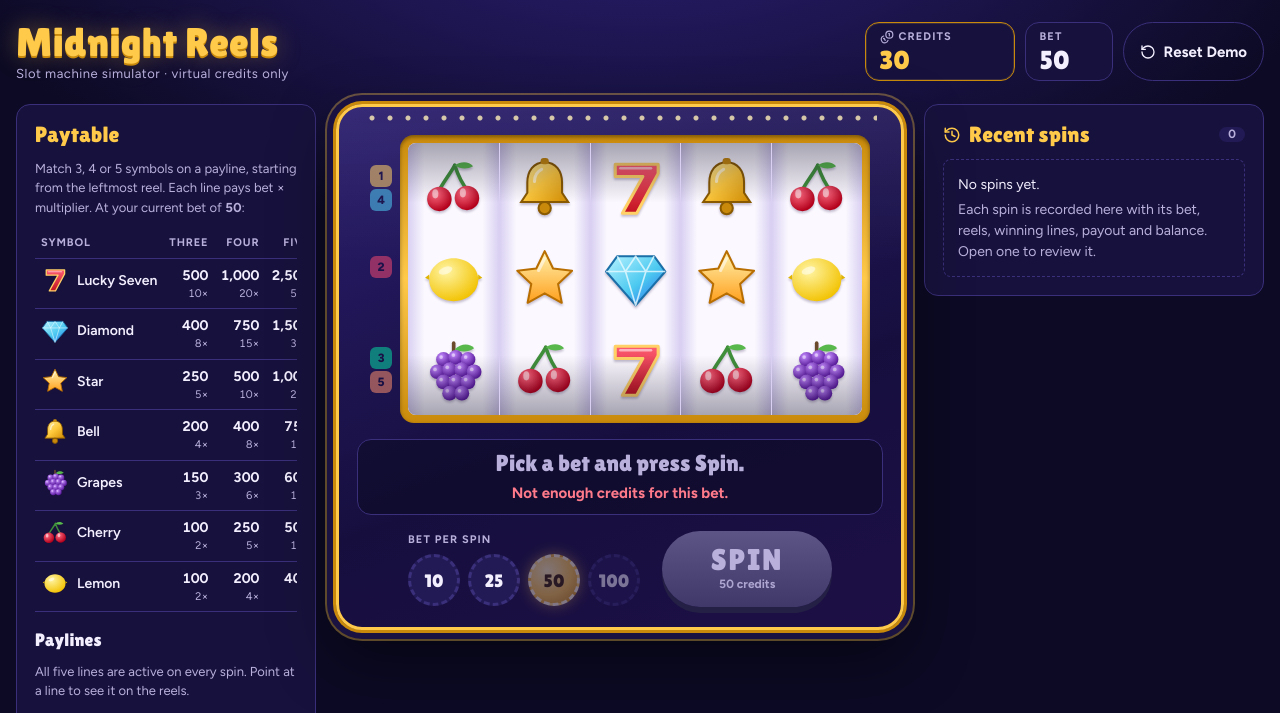
Test: App › warns and disables Spin when credits do not cover the bet
Expected: the message "Not enough credits for this bet." is shown, [512, 482, 728, 504]
Expected: the button "Spin 50 credits" is disabled, [662, 531, 832, 607]
What coordinates should you click on to do the following:
click the radio button labelled "25"
I would click on:
 (494, 580)
Its box is [468, 554, 520, 606].
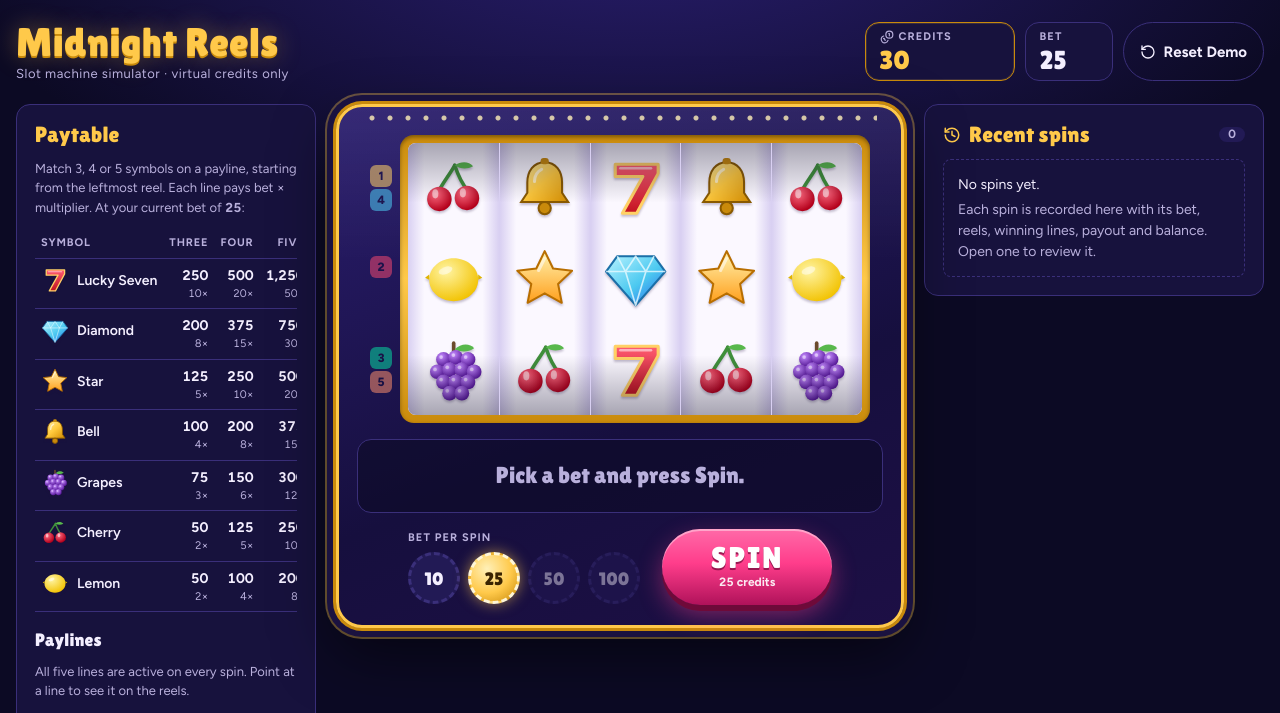
Now the message "Not enough credits for this bet." is gone
Now the button "Spin 25 credits" is enabled, box [662, 529, 832, 605]
